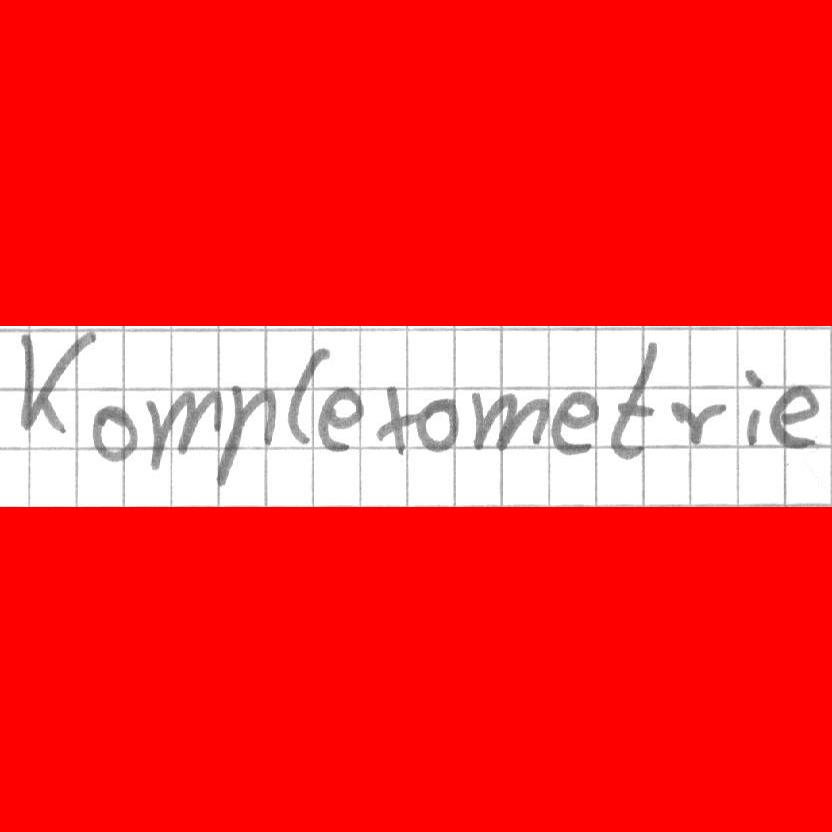Char: (16, 333, 89, 437), (213, 379, 279, 486), (609, 333, 661, 458), (140, 385, 212, 472), (469, 387, 551, 452), (287, 344, 331, 448), (550, 385, 598, 456), (771, 385, 821, 451), (318, 382, 363, 453), (89, 403, 139, 464), (671, 393, 725, 447), (374, 383, 414, 455), (416, 392, 459, 454), (742, 365, 765, 451)
